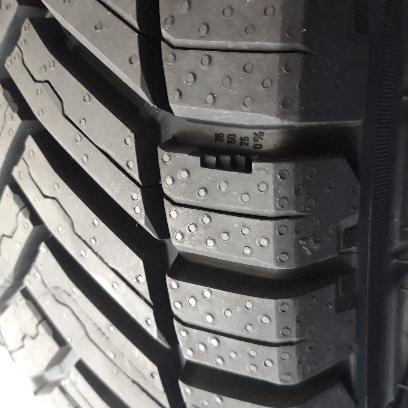temoin:100: (187, 144, 261, 176)
